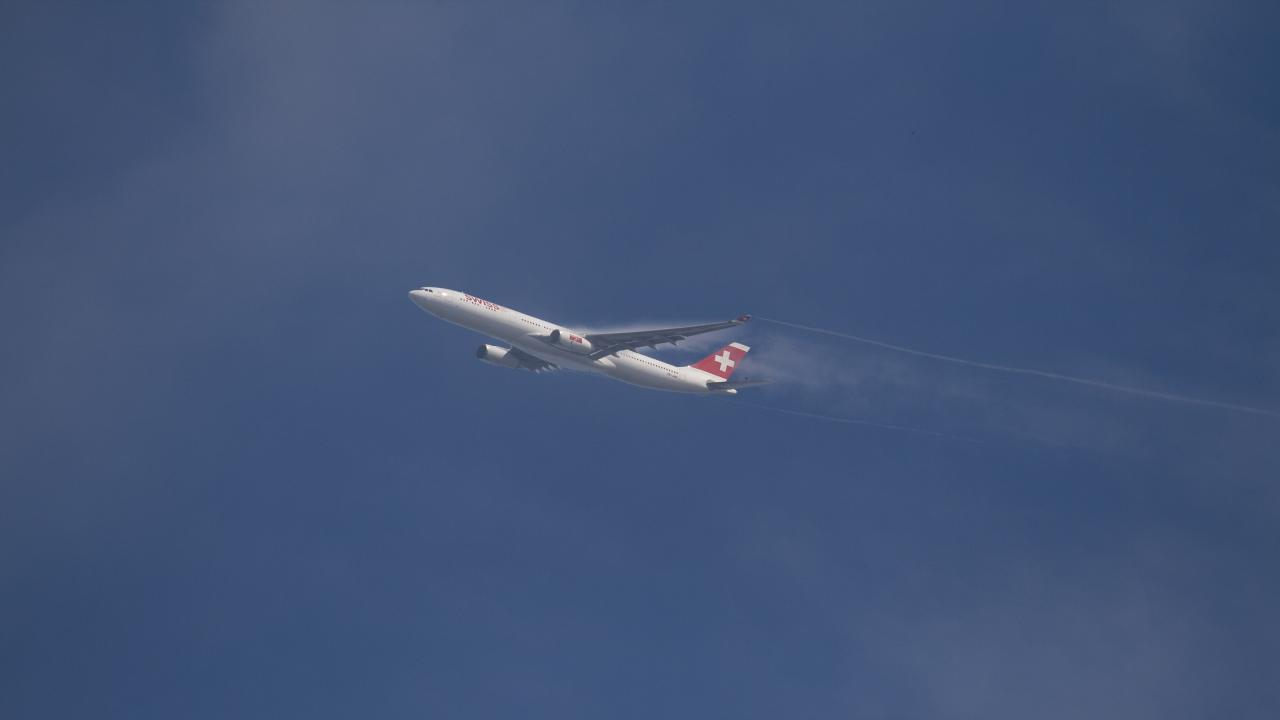Airplane: (394, 274, 774, 417)
